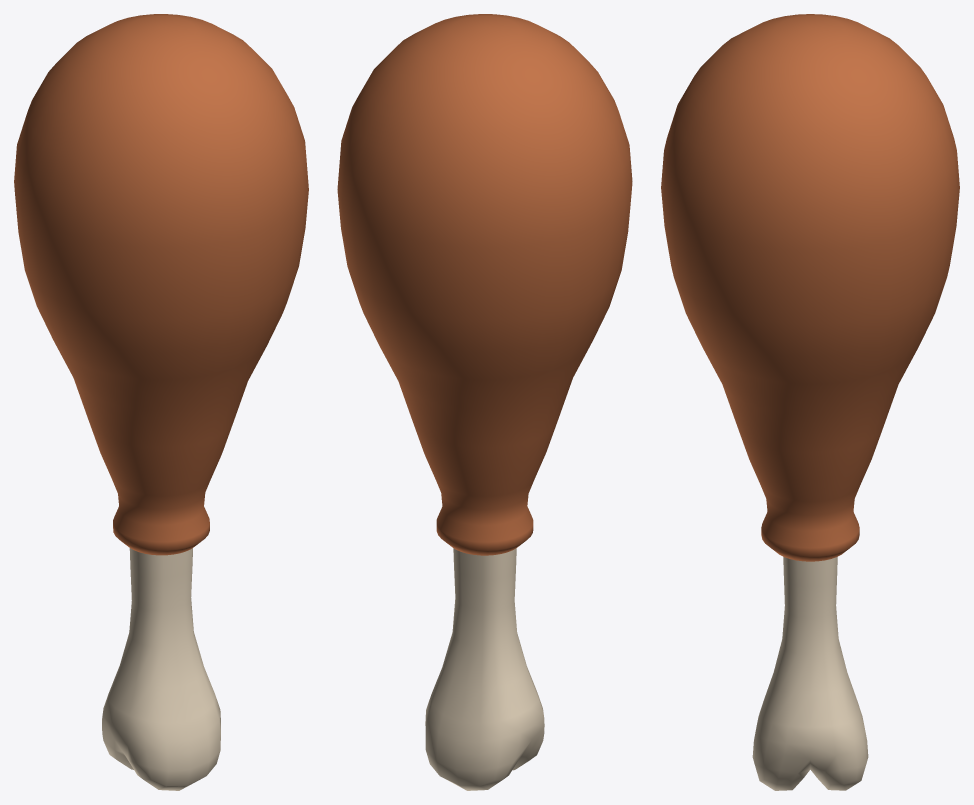
The model's file is ayam.fbx.
3 views of the same model, side by side, from view 1: azimuth 30°, elevation 25°; view 2: azimuth 150°, elevation 25°; view 3: azimuth 270°, elevation 25° (orthographic).
Parts seen in each view (by area): view 1: Sphere, Cube; view 2: Sphere, Cube; view 3: Sphere, Cube.
Part boxes in pixels (x1,y1,x2,y2): Sphere: (14, 14, 308, 555); Cube: (102, 548, 220, 790); Sphere: (337, 14, 632, 555); Cube: (425, 548, 544, 790); Sphere: (661, 14, 959, 561); Cube: (752, 557, 868, 790).
Bounding box in the file's own units: 136 × 381 × 136.
1 material, 1 textured.
